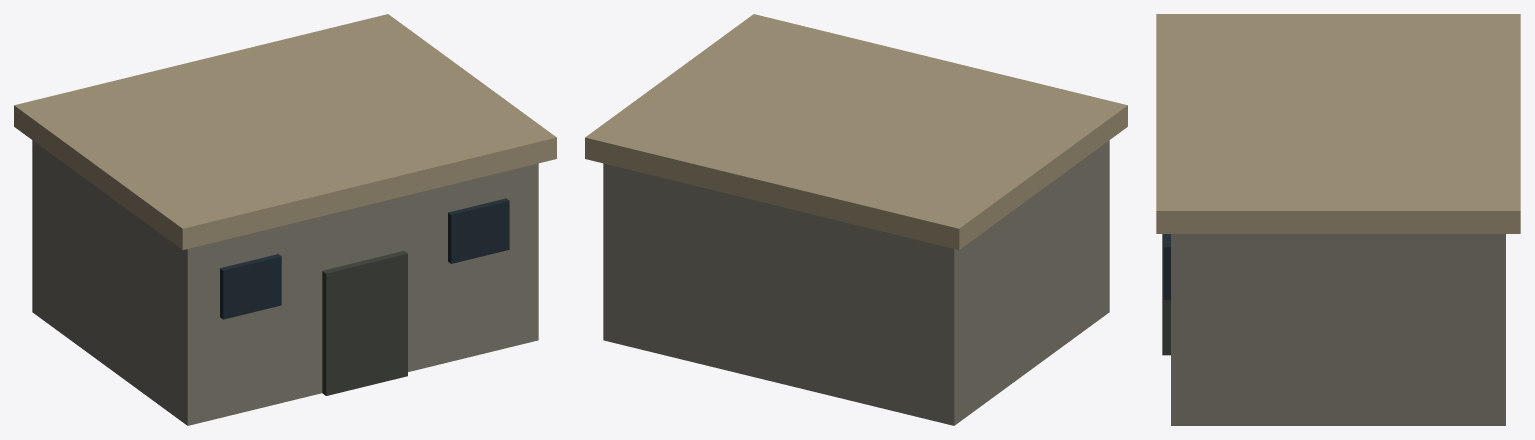
Rendered from RF_Prop_BuildingA_Intact.glb.
The picture shows the model from 3 angles, left to right: view 1: azimuth 30°, elevation 25°; view 2: azimuth 150°, elevation 25°; view 3: azimuth 270°, elevation 25°; orthographic projection. The views are drawn at different scales.
Visible parts, largest first — view 1: RF_Prop_BuildingA_Intact; view 2: RF_Prop_BuildingA_Intact; view 3: RF_Prop_BuildingA_Intact.
Part boxes in pixels (bbox=[...]): RF_Prop_BuildingA_Intact: bbox=[14, 14, 556, 425]; RF_Prop_BuildingA_Intact: bbox=[585, 14, 1127, 425]; RF_Prop_BuildingA_Intact: bbox=[1156, 14, 1520, 425].
Size of the model in its own units: 6.4 by 3.35 by 5.
